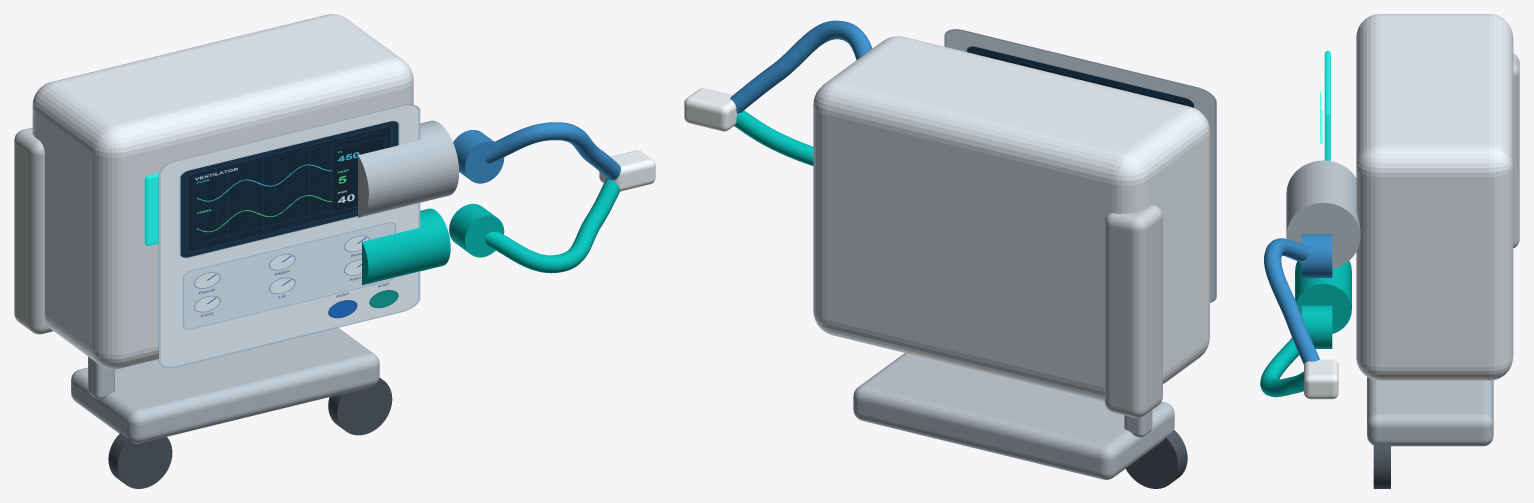
The model's file is ventilator.glb.
The picture shows the model from 3 angles, left to right: view 1: azimuth 30°, elevation 25°; view 2: azimuth 150°, elevation 25°; view 3: azimuth 270°, elevation 25°; orthographic projection. The views are drawn at different scales.
Parts seen in each view (by area): view 1: ventilator body, photo-real ventilator front, rolling base, flow turbine, rear gas module, exp valve, expiratory limb, inspiratory limb, wheel left, wheel right, expiratory inlet coupler, inspiratory outlet coupler (+3 smaller); view 2: ventilator body, rolling base, rear gas module, photo-real ventilator front, inspiratory limb, wheel left, patient y piece, expiratory limb; view 3: ventilator body, rolling base, flow turbine, inspiratory limb, exp valve, expiratory limb, patient y piece, rear gas module, inspiratory outlet coupler, expiratory inlet coupler, wheel right, vent display.
Part boxes in pixels (x1,y1,x2,y2): ventilator body: [32, 14, 413, 369]; photo-real ventilator front: [158, 104, 420, 367]; rolling base: [71, 327, 379, 443]; flow turbine: [358, 120, 458, 217]; rear gas module: [14, 127, 53, 334]; exp valve: [362, 208, 450, 285]; expiratory limb: [485, 178, 619, 273]; inspiratory limb: [485, 122, 620, 180]; wheel left: [108, 433, 172, 488]; wheel right: [328, 378, 392, 435]; expiratory inlet coupler: [449, 203, 504, 257]; inspiratory outlet coupler: [453, 130, 504, 183]; ventilator body: [813, 36, 1209, 401]; rolling base: [853, 353, 1174, 479]; rear gas module: [1104, 204, 1162, 417]; photo-real ventilator front: [944, 29, 1216, 302]; inspiratory limb: [730, 20, 872, 113]; wheel left: [1126, 430, 1187, 488]; patient y piece: [684, 88, 737, 131]; expiratory limb: [734, 110, 813, 165]; ventilator body: [1356, 14, 1513, 380]; rolling base: [1367, 377, 1493, 446]; flow turbine: [1286, 160, 1360, 268]; inspiratory limb: [1264, 238, 1319, 364]; exp valve: [1295, 260, 1351, 333]; expiratory limb: [1260, 338, 1303, 397]; patient y piece: [1304, 359, 1338, 399]; rear gas module: [1513, 53, 1519, 248]; inspiratory outlet coupler: [1301, 234, 1332, 277]; expiratory inlet coupler: [1301, 305, 1332, 348]; wheel right: [1373, 442, 1390, 488]; vent display: [1324, 50, 1330, 160].
Size of the model in its own units: 2.73 by 1.79 by 1.19.
Materials: 11 (1 with a texture image).
